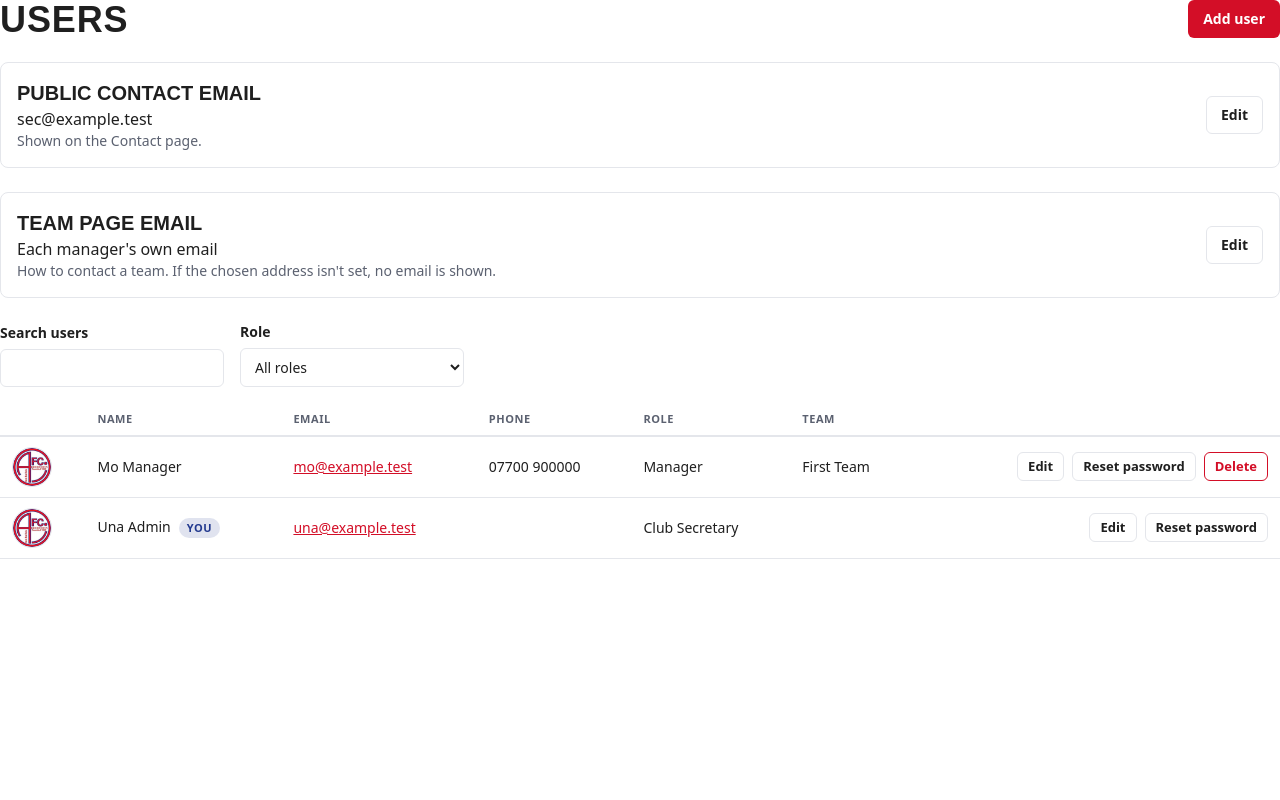
Test: Public contact email › starts from the current email and can clear it
Expected: the text "sec@example.test" is shown, [17,108,152,130]
Click the button with aria-label "Edit public contact email": (1234, 115) [1206,96,1263,134]
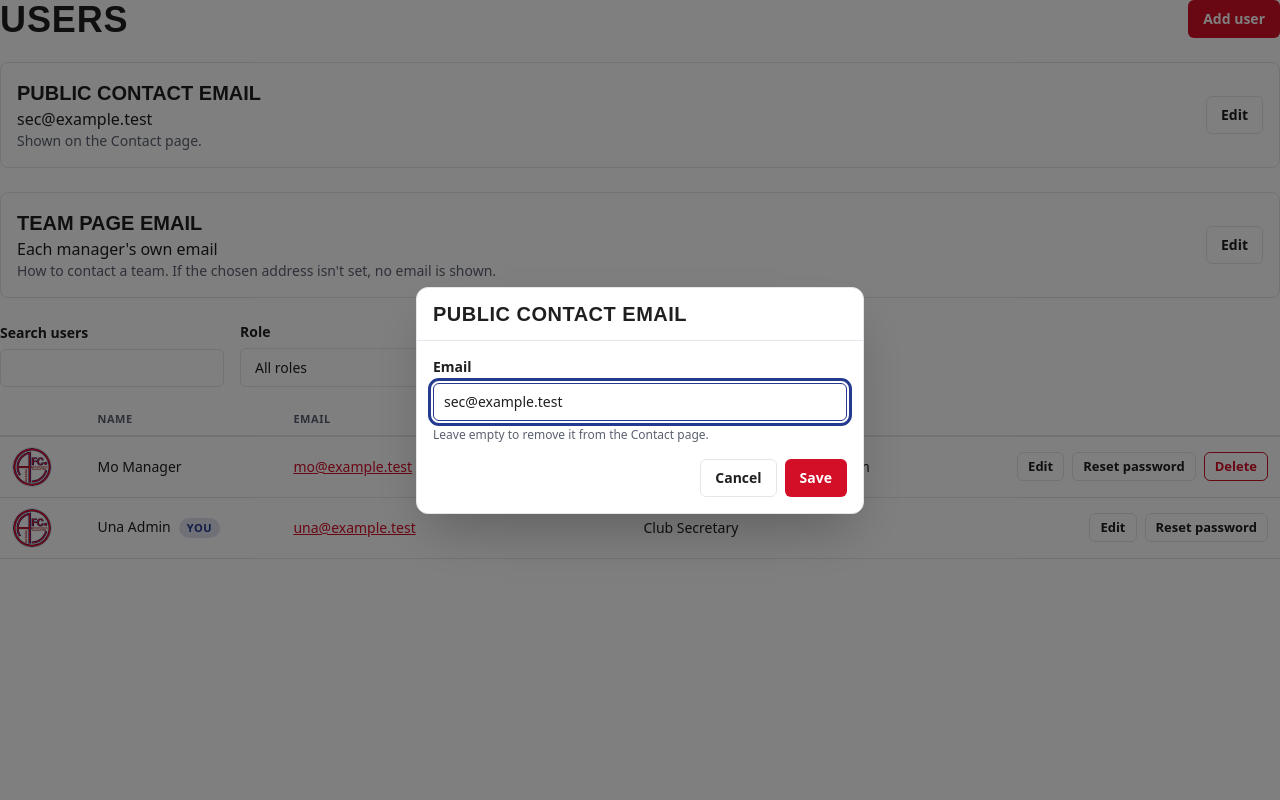
Now the field labelled "Email" holds "sec@example.test"
Clear the field labelled "Email": (640, 402) [433,382,847,420]
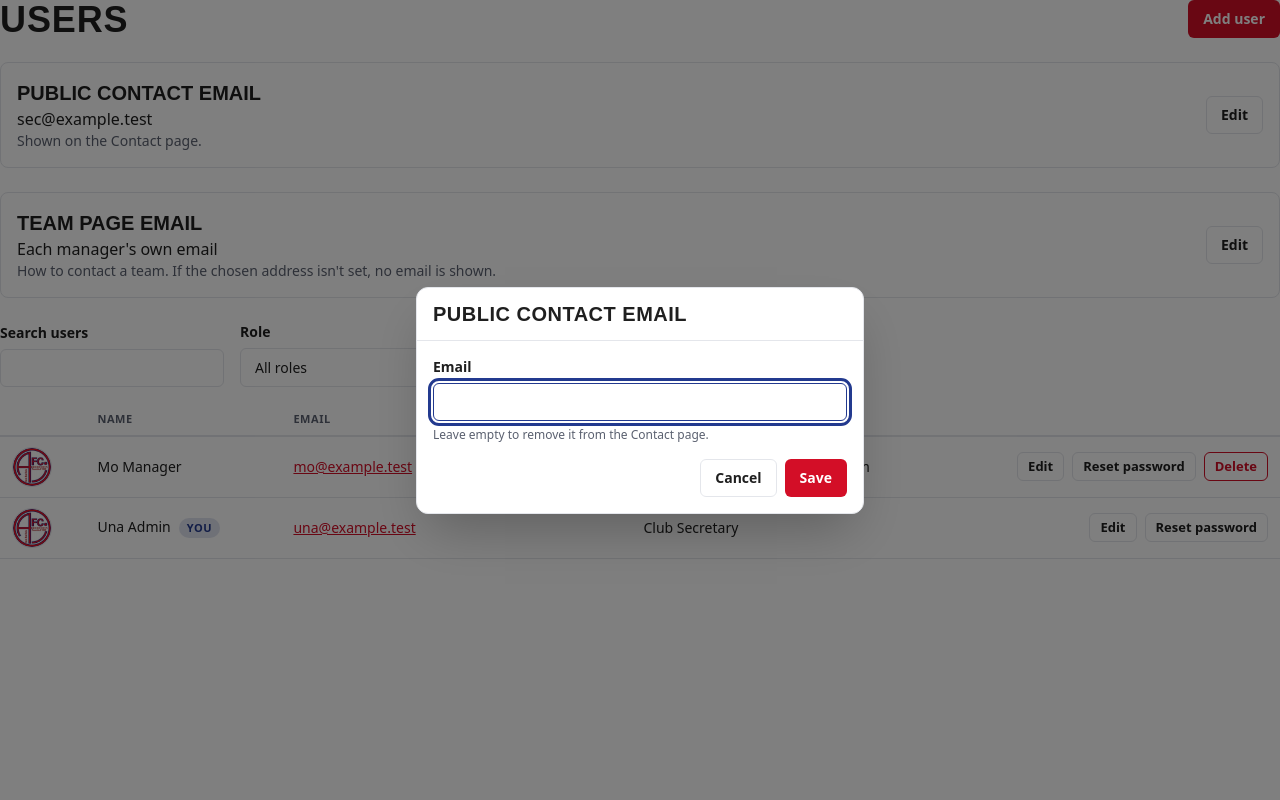
Click the button "Save": (816, 478) [785,458,847,496]
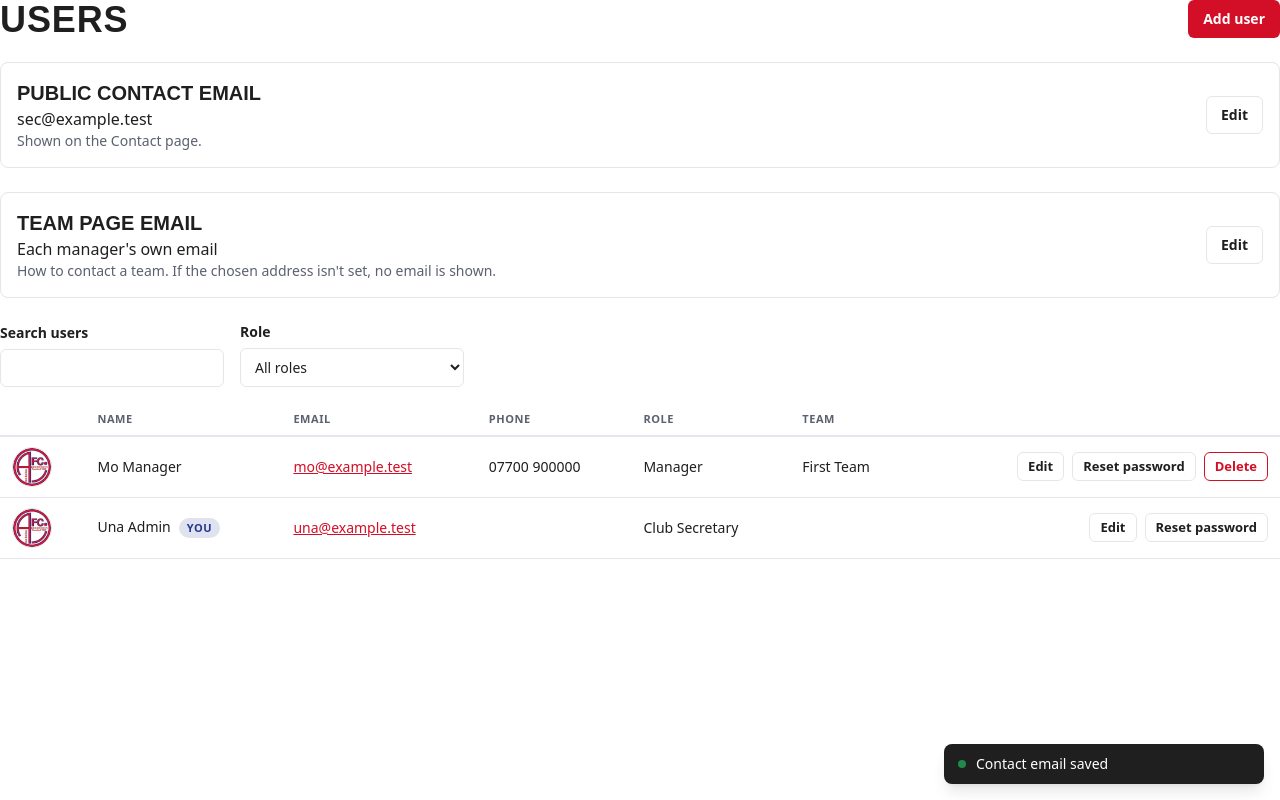
Now the button "Contact email saved" is shown, box [944,744,1264,784]
